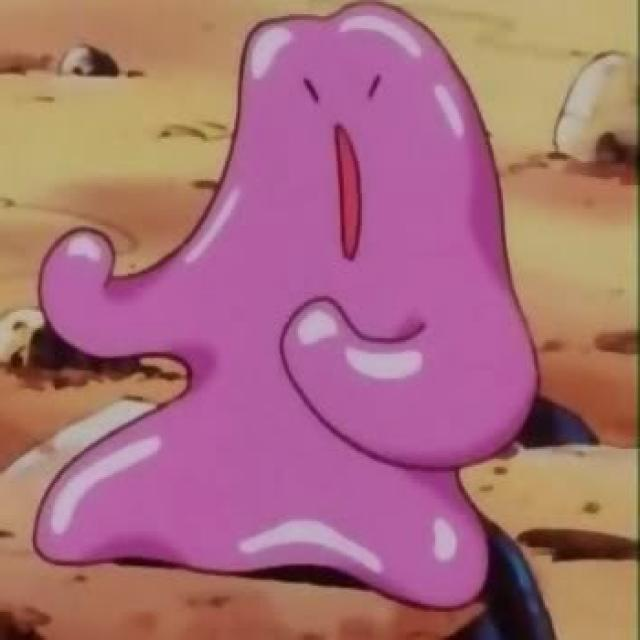Ditto: (33, 2, 526, 599)
